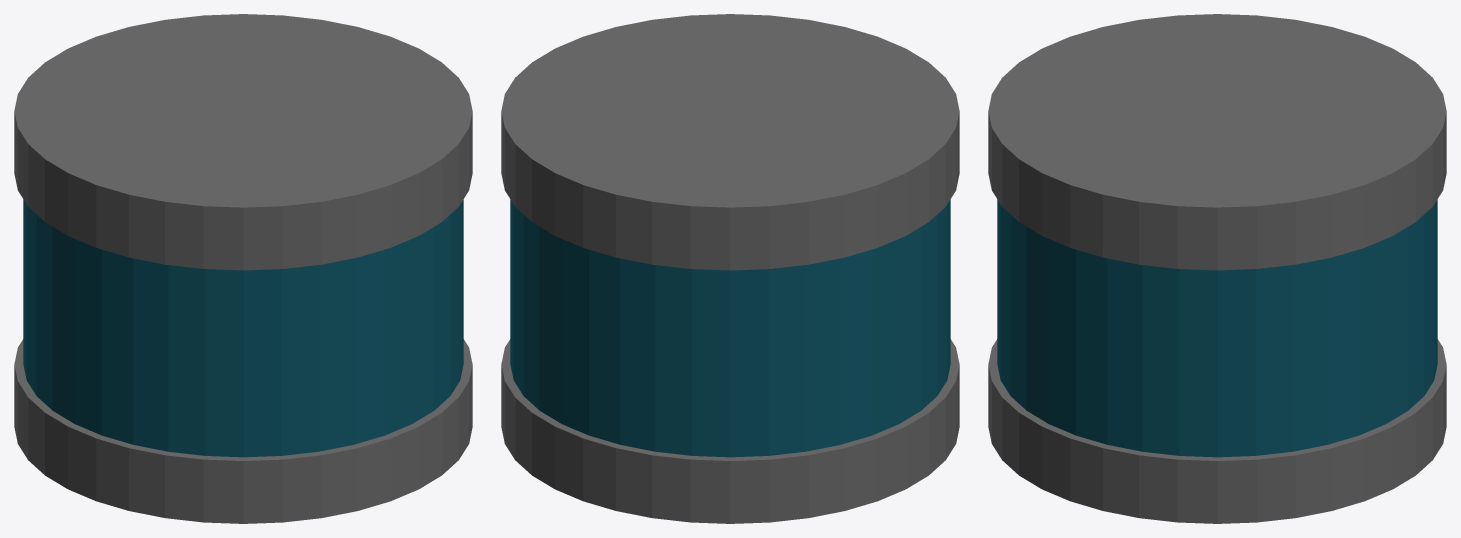
The model's file is UV_Simplified_Lidar.dae.
The picture shows the model from 3 angles, left to right: view 1: azimuth 30°, elevation 25°; view 2: azimuth 150°, elevation 25°; view 3: azimuth 270°, elevation 25°; orthographic projection.
Visible parts, largest first — view 1: UV Simplified Lidar temp; view 2: UV Simplified Lidar temp; view 3: UV Simplified Lidar temp.
Part boxes in pixels (x1,y1,x2,y2): UV Simplified Lidar temp: (14, 14, 472, 523); UV Simplified Lidar temp: (501, 14, 959, 523); UV Simplified Lidar temp: (988, 14, 1446, 523).
Size of the model in its own units: 0.1024 by 0.1024 by 0.078.
